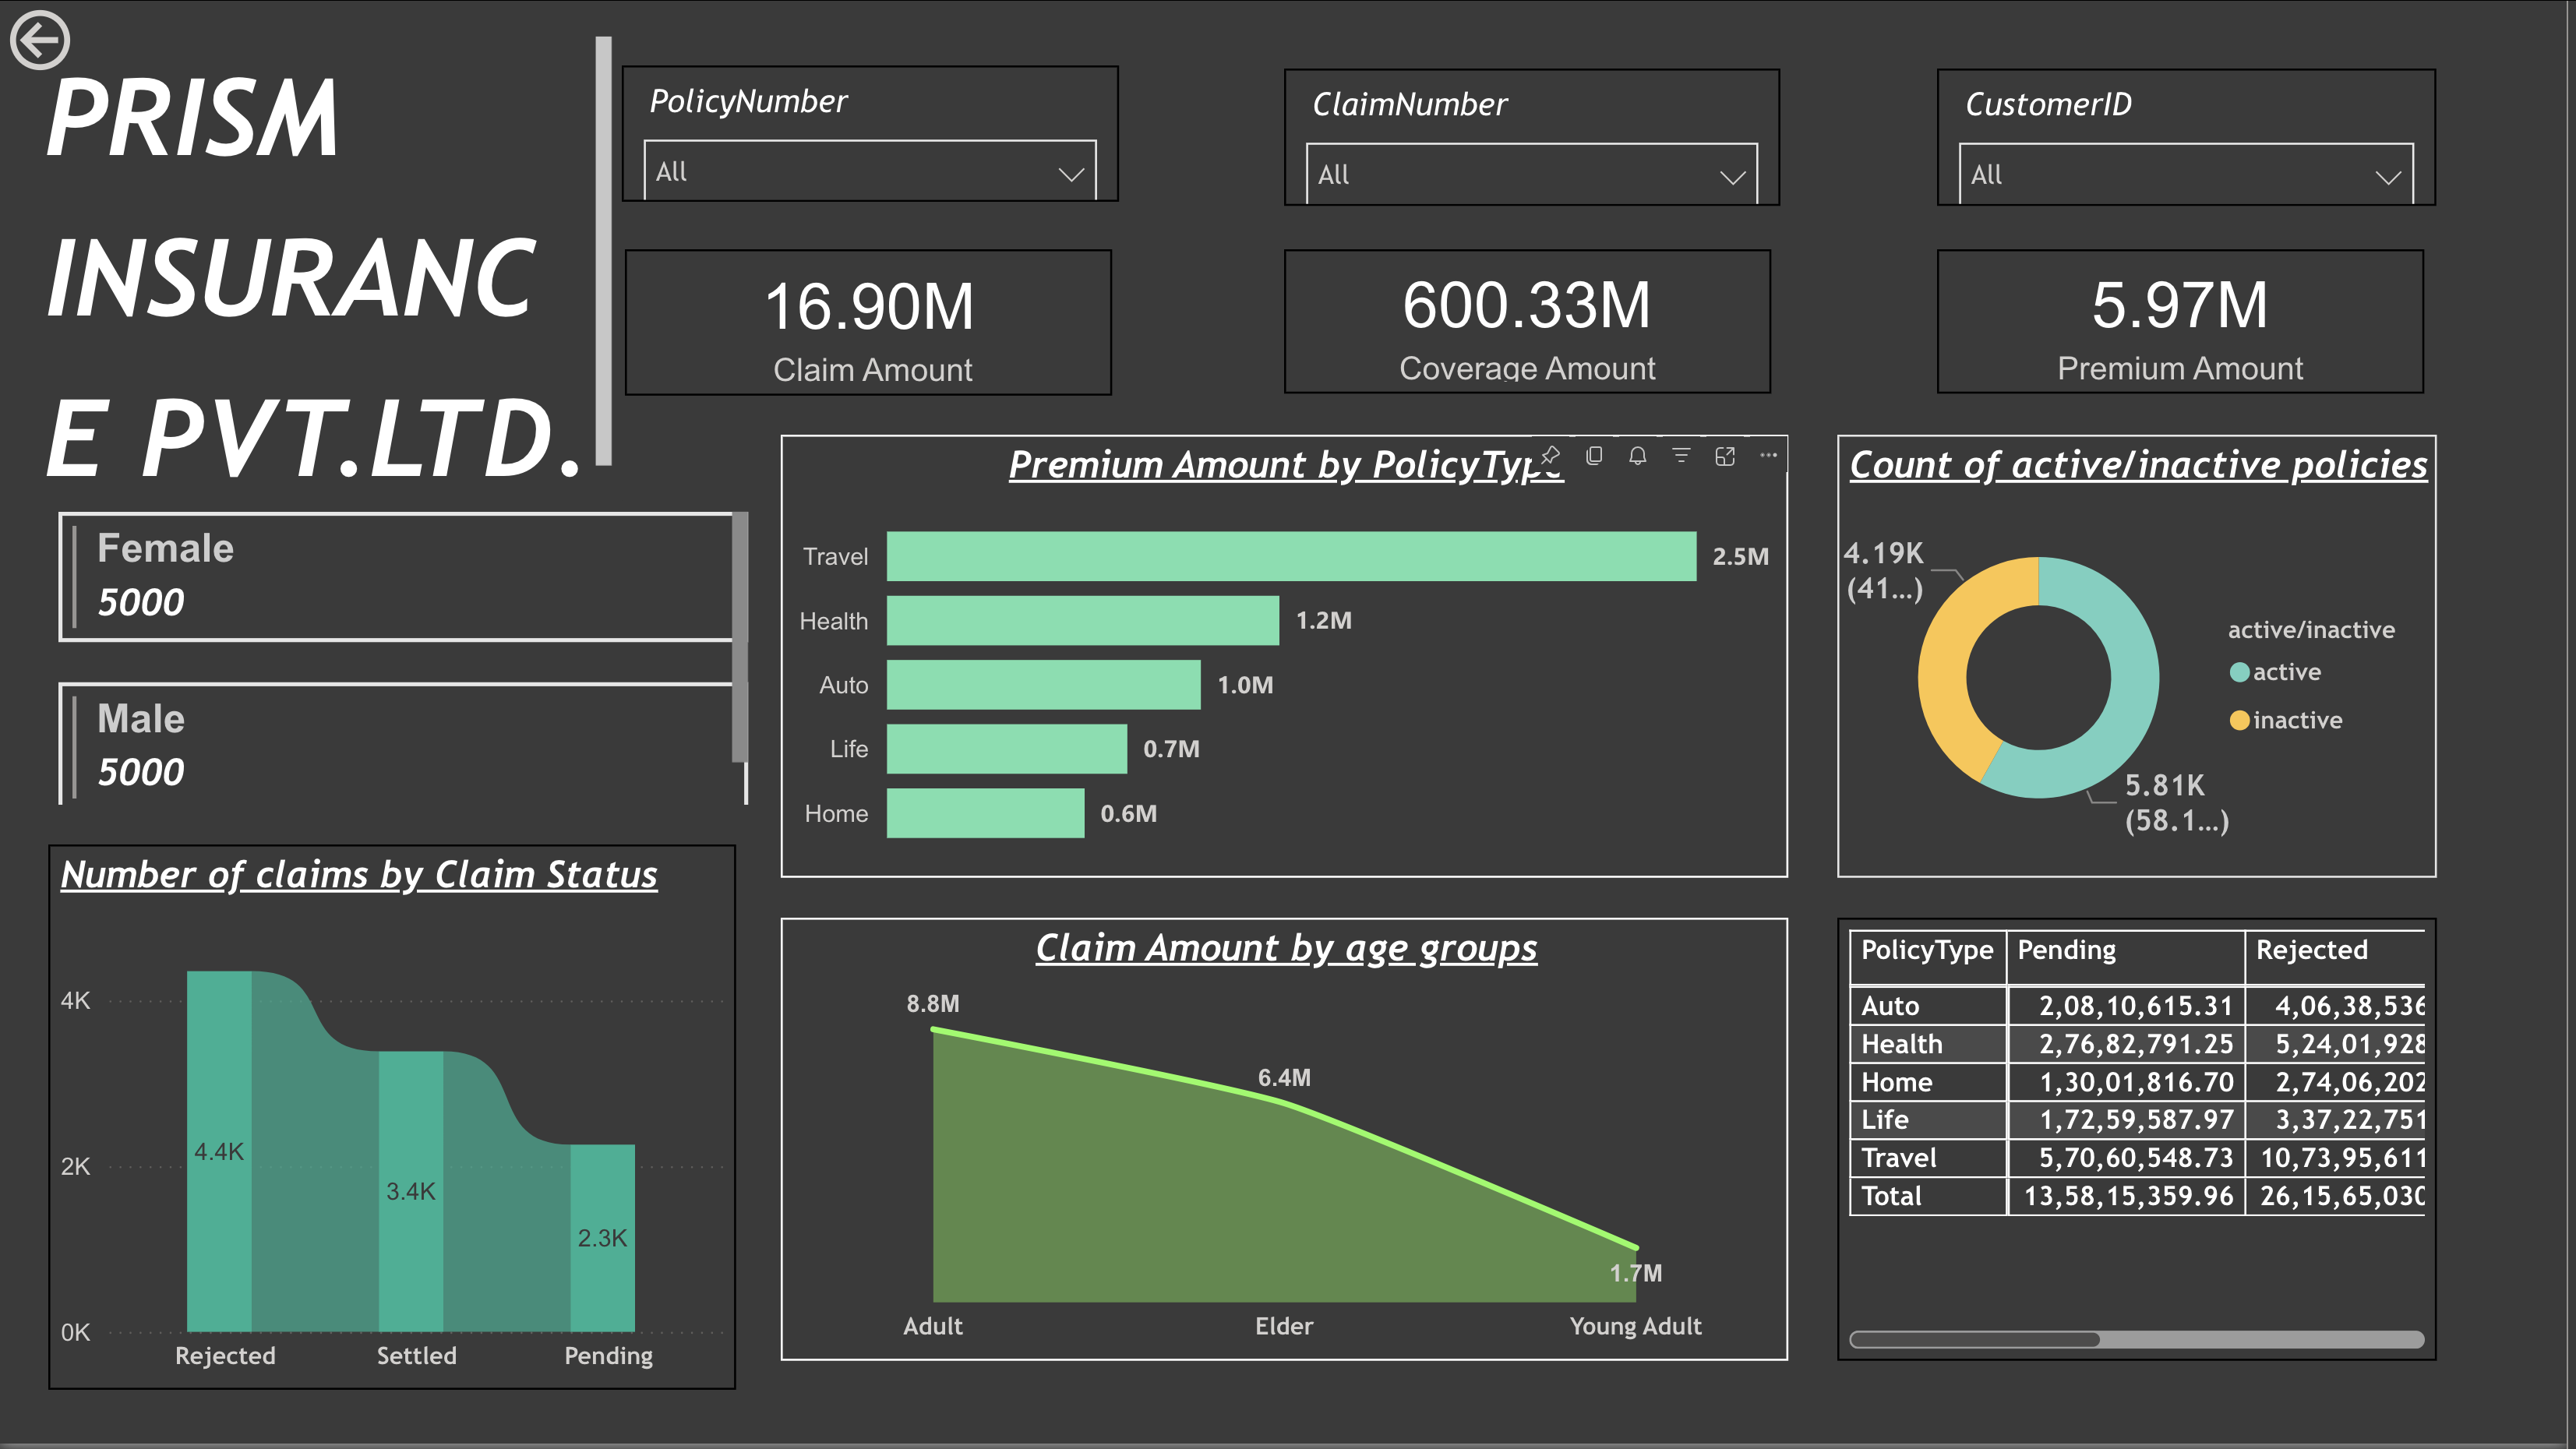

The dashboard page shown, as its layout file describes it:
{"tool":"powerbi","page":{"name":"Page 1","canvas":[1280,720],"ordinal":0},"visuals":[{"type":"slicer","fields":{"Values":["InsuranceData 2.PolicyNumber"]},"box":[310,33,248,68],"z":0},{"type":"slicer","fields":{"Values":["InsuranceData 2.ClaimNumber"]},"box":[640.6,34.2,247.7,68.3],"z":1000},{"type":"slicer","fields":{"Values":["InsuranceData 2.CustomerID"]},"box":[966.4,34.2,248.9,68.3],"z":2000},{"type":"textbox","box":[17.1,13.4,292.9,236.7],"z":3000},{"type":"card","fields":{"Values":["Sum(InsuranceData 2.ClaimAmount)"]},"box":[312,124,243,73],"z":4000},{"type":"card","fields":{"Values":["Sum(InsuranceData 2.CoverageAmount)"]},"box":[640.6,124.5,242.8,72],"z":5000},{"type":"card","fields":{"Values":["Sum(InsuranceData 2.PremiumAmount)"]},"box":[966.4,124.5,242.8,72],"z":6000},{"type":"multiRowCard","fields":{"Values":["CountNonNull(InsuranceData 2.Gender)","InsuranceData 2.Gender"]},"box":[24.4,250.1,353.9,156.2],"z":7000},{"type":"ribbonChart","title":"Number of  claims by Claim Status","fields":{"Category":["InsuranceData 2.ClaimStatus"],"Y":["CountNonNull(InsuranceData 2.ClaimStatus)"]},"box":[24.4,421,342.9,272.1],"z":8000},{"type":"barChart","title":" Premium Amount by PolicyType","fields":{"Category":["InsuranceData 2.PolicyType"],"Y":["Sum(InsuranceData 2.PremiumAmount)"]},"box":[389.2,217.2,502.7,220.9],"z":9000},{"type":"lineChart","title":"Claim Amount by age groups","fields":{"Category":["InsuranceData 2.age groups"],"Y":["Sum(InsuranceData 2.ClaimAmount)"]},"box":[389.2,457.6,502.7,220.9],"z":10000},{"type":"donutChart","title":"Count of active/inactive policies","fields":{"Category":["InsuranceData 2.active/inactive"],"Y":["CountNonNull(InsuranceData 2.active/inactive)"]},"box":[916.4,217.2,299,220.9],"z":11000},{"type":"pivotTable","fields":{"Columns":["InsuranceData 2.ClaimStatus"],"Values":["Sum(InsuranceData 2.CoverageAmount)"],"Rows":["InsuranceData 2.PolicyType"]},"box":[916,458,299,221],"z":12000},{"type":"actionButton","box":[0,0,100,40],"z":12001}]}

Visuals, with their boxes in screenshot pixels (x1, y1, x2, y2), scaled from the page's 1280x720 canvas onto the 2576x1449 screenshot:
slicer - InsuranceData 2.PolicyNumber: (624,66,1123,203)
slicer - InsuranceData 2.ClaimNumber: (1290,69,1787,206)
slicer - InsuranceData 2.CustomerID: (1945,69,2446,206)
textbox: (34,27,624,503)
card - Sum(InsuranceData 2.ClaimAmount): (628,249,1117,397)
card - Sum(InsuranceData 2.CoverageAmount): (1290,251,1778,396)
card - Sum(InsuranceData 2.PremiumAmount): (1945,251,2433,396)
multiRowCard - CountNonNull(InsuranceData 2.Gender) x InsuranceData 2.Gender: (49,503,761,818)
"Number of  claims by Claim Status" ribbonChart: (49,848,739,1395)
" Premium Amount by PolicyType" barChart: (783,437,1795,882)
"Claim Amount by age groups" lineChart: (783,921,1795,1366)
"Count of active/inactive policies" donutChart: (1844,437,2446,882)
pivotTable - InsuranceData 2.ClaimStatus x Sum(InsuranceData 2.CoverageAmount): (1844,922,2445,1366)
actionButton: (0,0,201,80)
